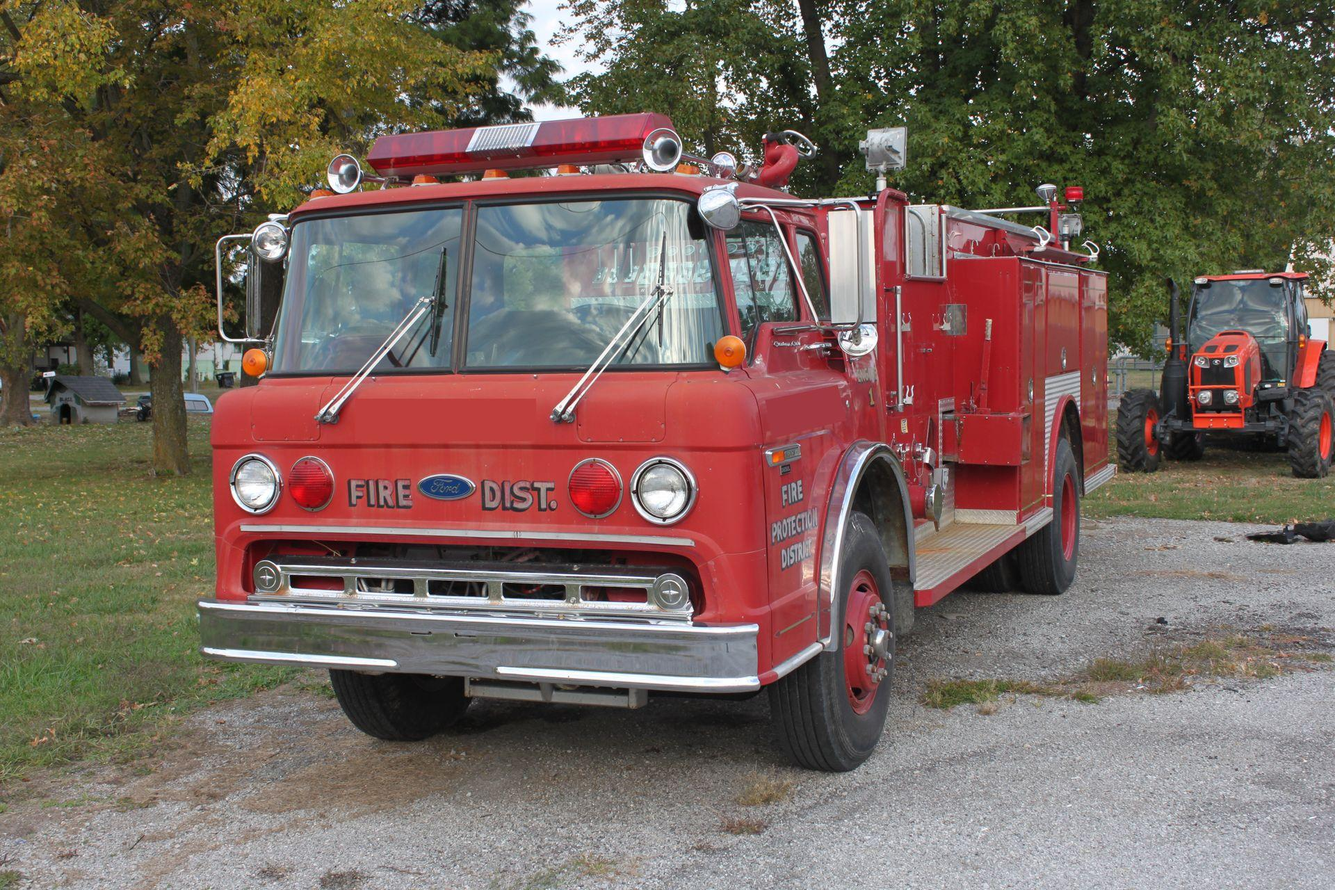Fire-engine: (197, 111, 1117, 772)
